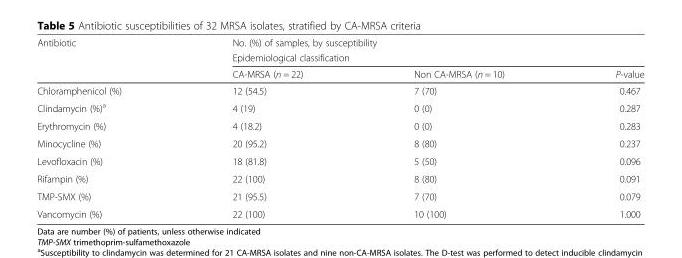table: (36, 36, 643, 219)
table column: (357, 36, 559, 219), (176, 36, 357, 219), (36, 36, 176, 219), (559, 36, 643, 219)
table column header: (36, 36, 643, 82)
table row: (36, 98, 643, 116), (36, 116, 643, 134), (36, 134, 643, 152), (36, 169, 643, 187), (36, 65, 643, 82), (36, 152, 643, 169), (36, 187, 643, 204), (36, 49, 643, 65), (36, 82, 643, 98), (36, 204, 643, 219), (36, 36, 643, 49)
table spanning cell: (176, 36, 643, 65), (36, 36, 176, 82)
